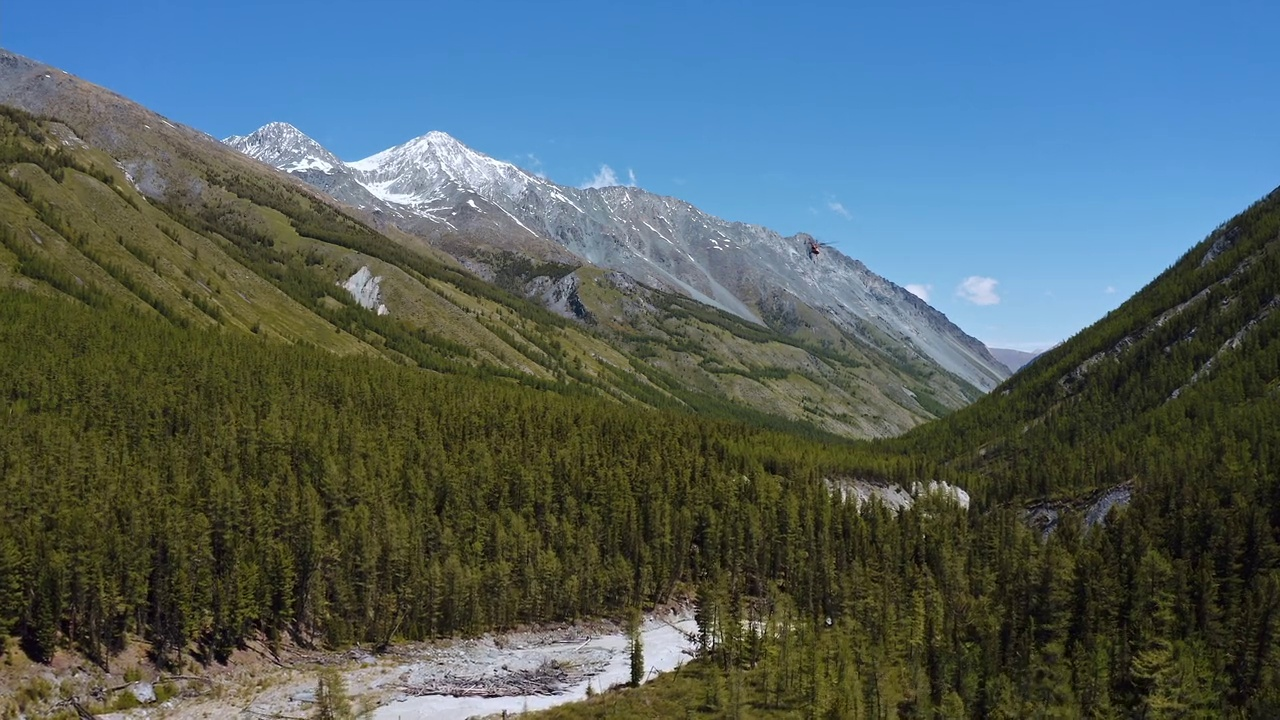heli: (800, 238, 836, 256)
